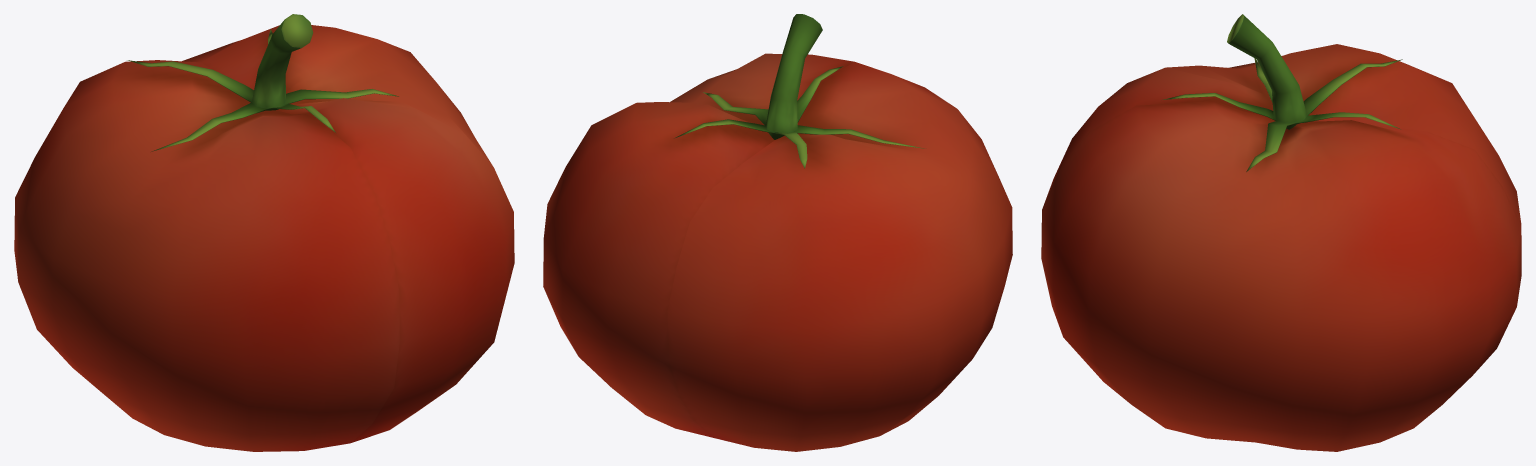
The model's file is tomato.glb.
3 renders of one model, left to right at view 1: azimuth 30°, elevation 25°; view 2: azimuth 150°, elevation 25°; view 3: azimuth 270°, elevation 25°, orthographic. The views are drawn at different scales.
Parts seen in each view (by area): view 1: geometry_0; view 2: geometry_0; view 3: geometry_0.
Boxes of the visible parts, x1,y1,x2,y2 form: geometry_0: (14,14,514,451); geometry_0: (543,14,1012,451); geometry_0: (1041,14,1521,451).
Size of the model in its own units: 0.3647 by 0.3311 by 0.3658.
Materials: 1 (1 with a texture image).
